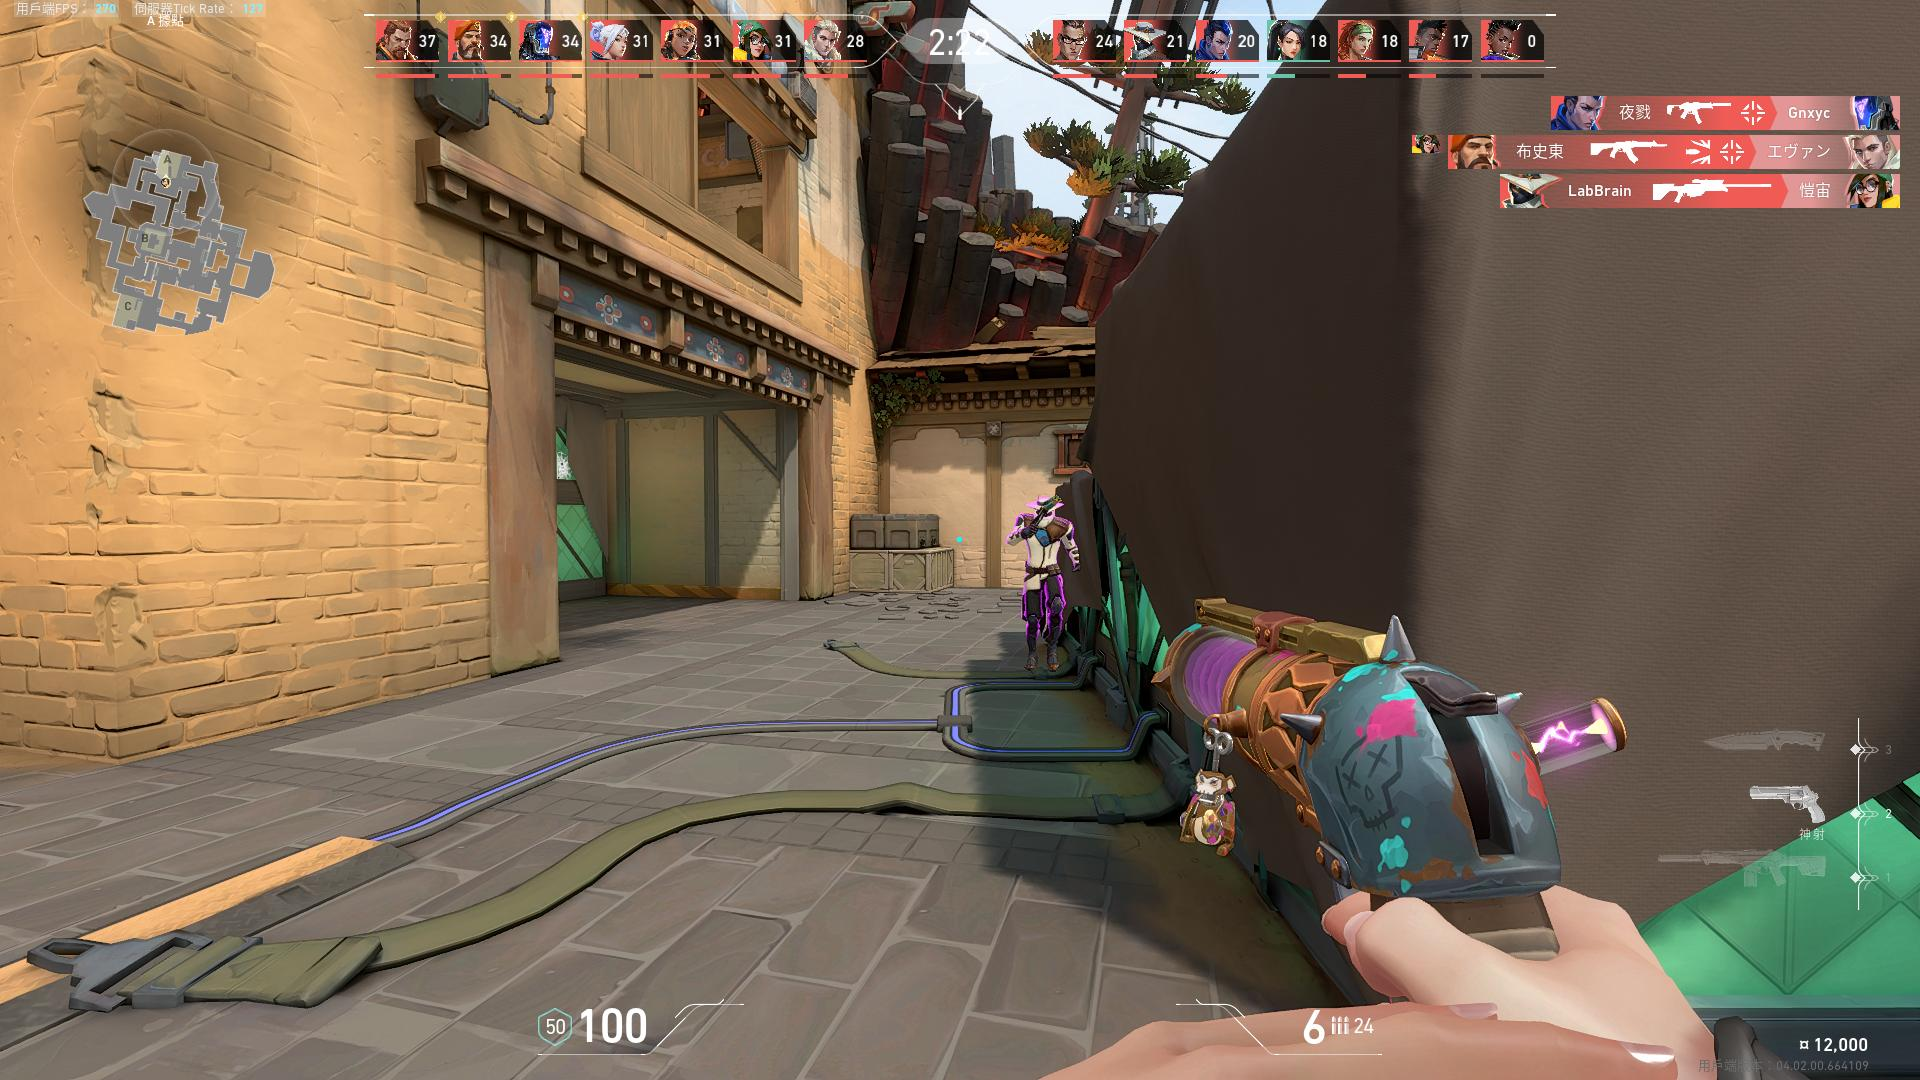enemyHead: (1029, 522, 1056, 575), (1039, 506, 1050, 520)
